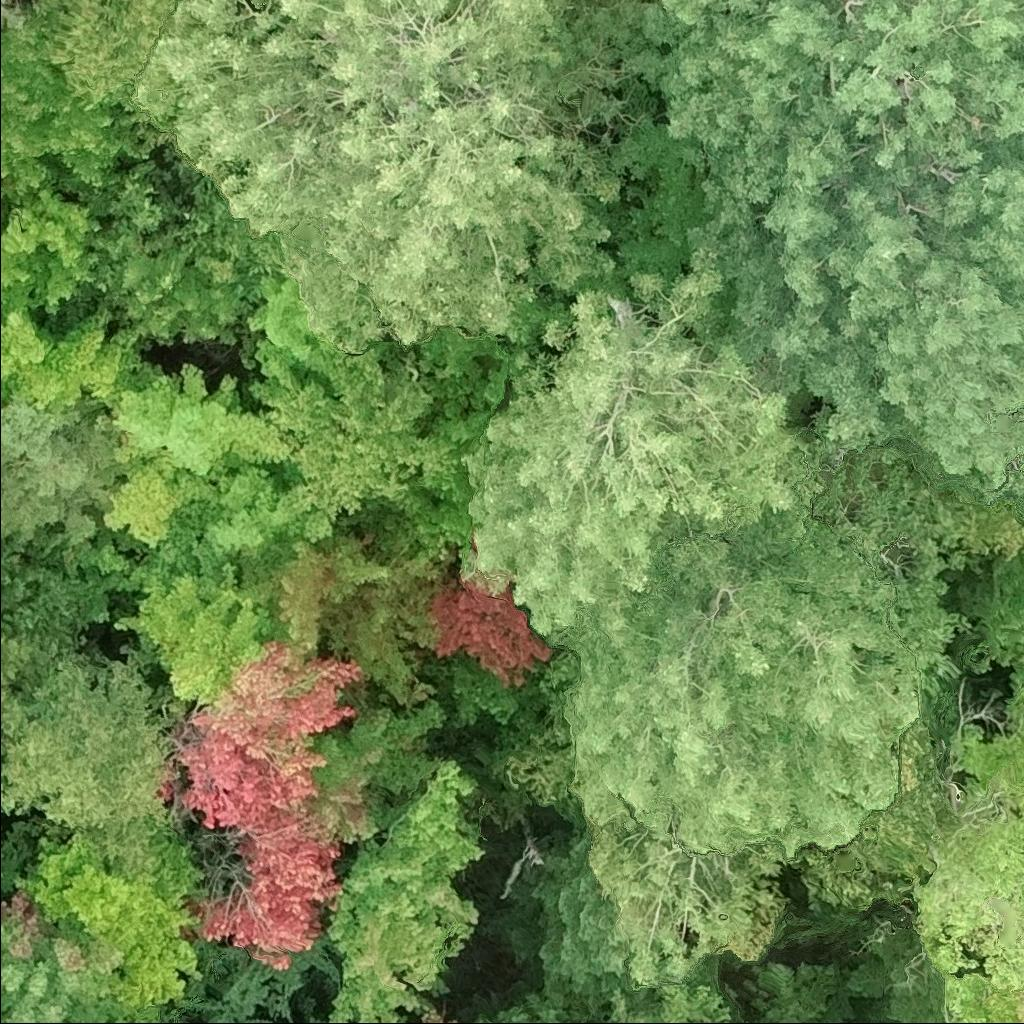crown: (620, 0, 1023, 517), (550, 507, 974, 993), (135, 0, 635, 383), (458, 248, 825, 643), (160, 640, 369, 974), (240, 338, 470, 528), (326, 758, 484, 1023), (0, 652, 179, 878), (239, 525, 461, 707), (64, 159, 268, 349), (8, 835, 208, 1023), (912, 690, 1023, 1023), (118, 466, 338, 595), (0, 22, 144, 219), (110, 561, 280, 709), (106, 361, 309, 480), (318, 680, 454, 847), (511, 830, 626, 1013), (0, 287, 160, 415), (13, 0, 171, 117), (0, 400, 126, 546), (0, 889, 128, 1023), (0, 177, 102, 318), (429, 580, 557, 688), (847, 925, 944, 1023), (955, 554, 1023, 693), (241, 269, 316, 391), (98, 463, 187, 549), (0, 629, 62, 701), (0, 0, 33, 27), (398, 1010, 464, 1023), (0, 924, 11, 947)
